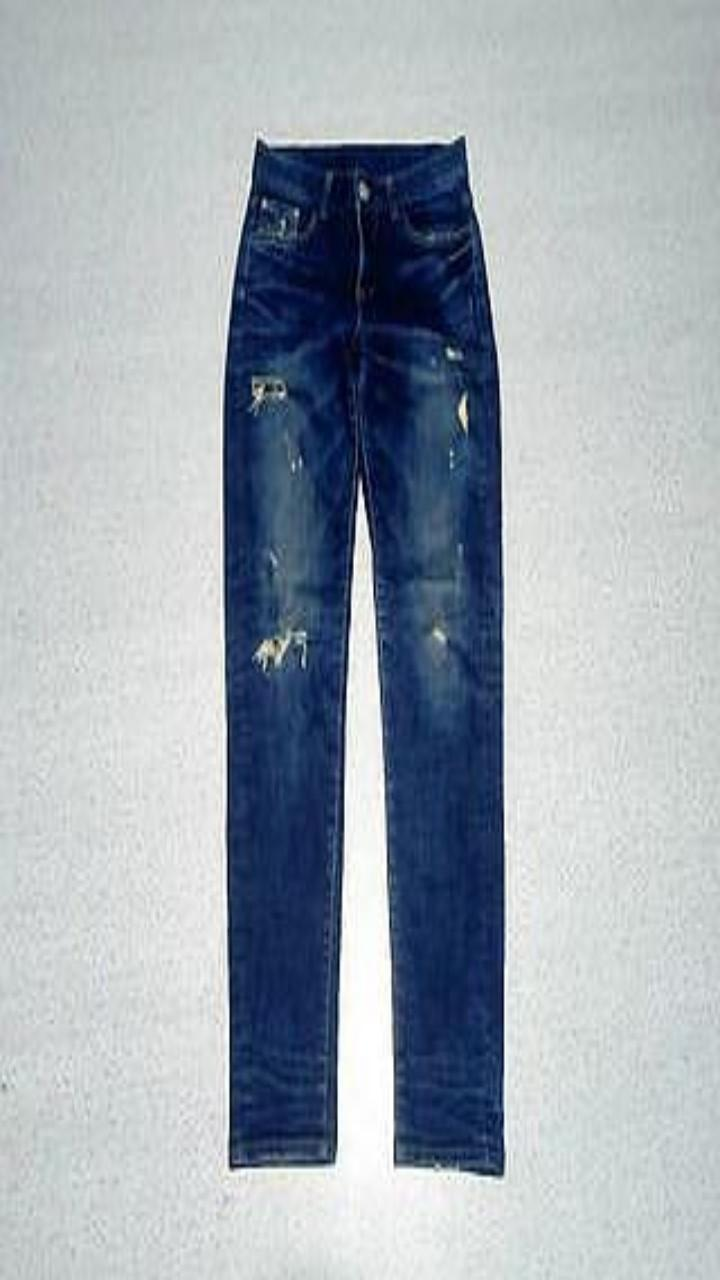Jeans: (224, 135, 504, 1174)
